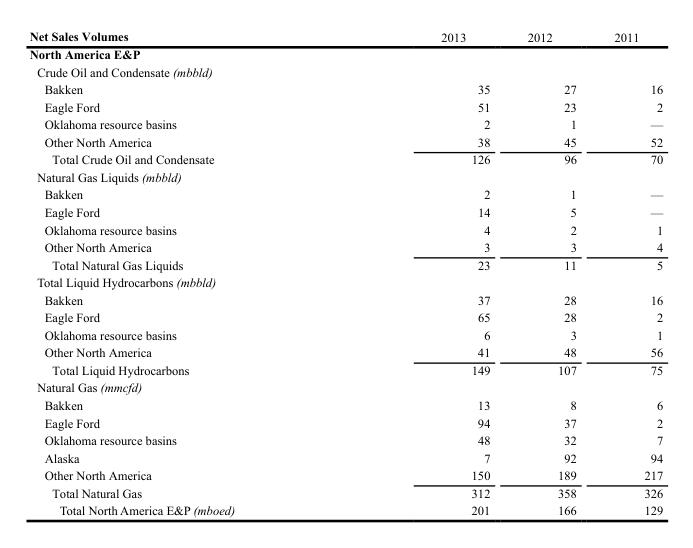table: (28, 29, 662, 517)
table column: (28, 29, 337, 517), (337, 29, 508, 517), (508, 29, 594, 517), (594, 29, 662, 517)
table column header: (28, 29, 662, 45)
table projected row header: (28, 62, 662, 80), (28, 167, 662, 185), (28, 378, 662, 396), (28, 45, 662, 62), (28, 273, 662, 290)
table row: (28, 62, 662, 80), (28, 97, 662, 115), (28, 132, 662, 150), (28, 167, 662, 185), (28, 185, 662, 203), (28, 220, 662, 238), (28, 255, 662, 273), (28, 290, 662, 308), (28, 325, 662, 343), (28, 360, 662, 378), (28, 378, 662, 396), (28, 413, 662, 431), (28, 448, 662, 466), (28, 483, 662, 501), (28, 45, 662, 62), (28, 80, 662, 97), (28, 115, 662, 132), (28, 150, 662, 167), (28, 203, 662, 220), (28, 238, 662, 255), (28, 273, 662, 290), (28, 308, 662, 325), (28, 343, 662, 360), (28, 396, 662, 413), (28, 431, 662, 448), (28, 466, 662, 483), (28, 29, 662, 45), (28, 501, 662, 517)
